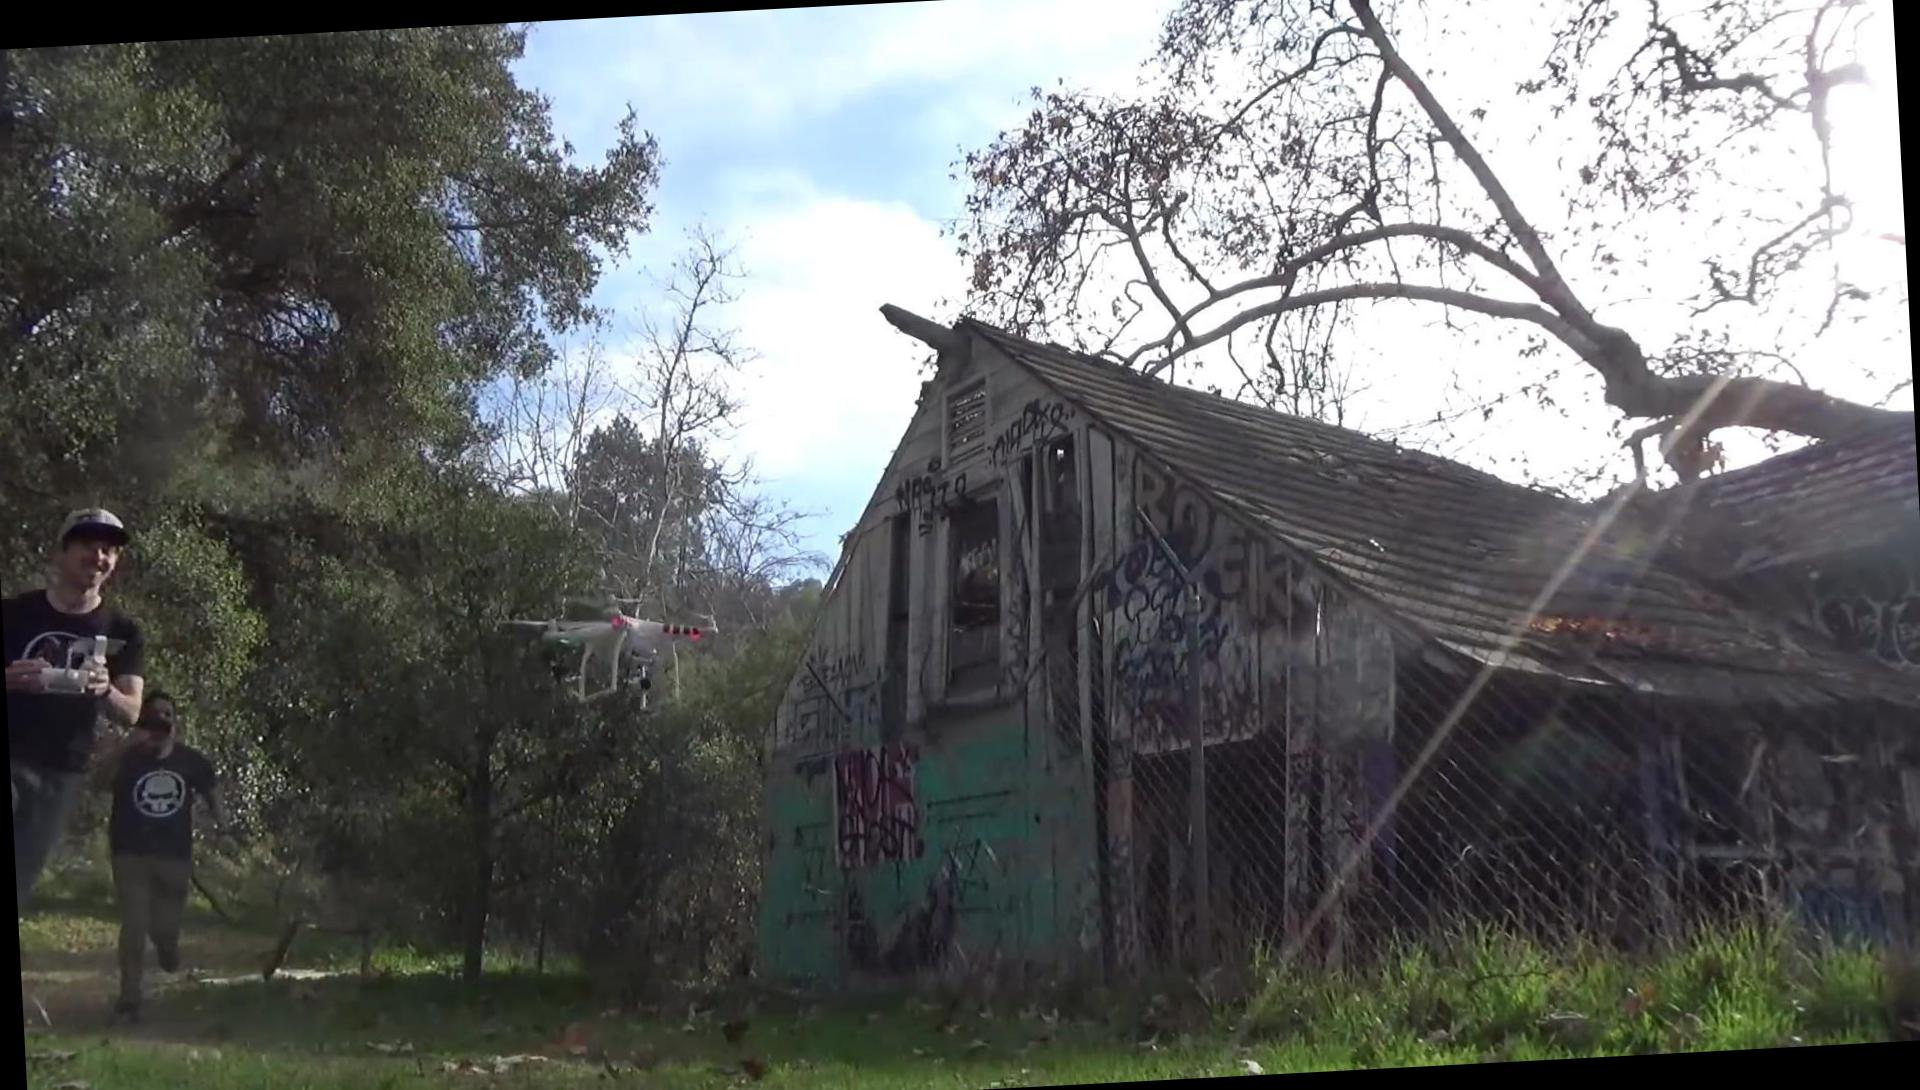drone: (498, 580, 727, 714)
